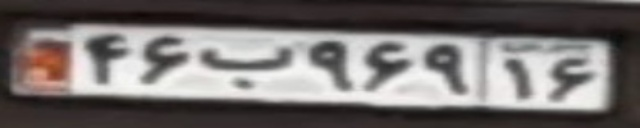1: (504, 55, 534, 98)
4: (84, 32, 133, 84)
6: (542, 55, 597, 102), (139, 35, 192, 83), (361, 40, 409, 89)
9: (302, 41, 355, 91), (421, 45, 470, 95)
be: (197, 47, 292, 90)
